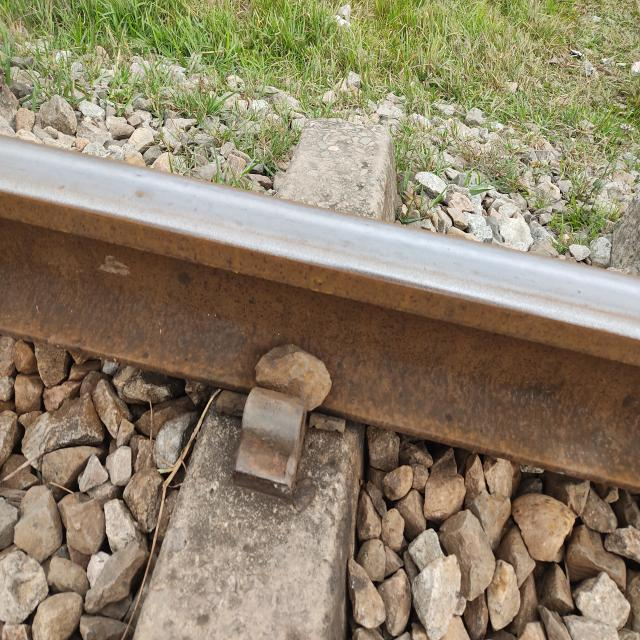fault: (224, 375, 317, 509)
